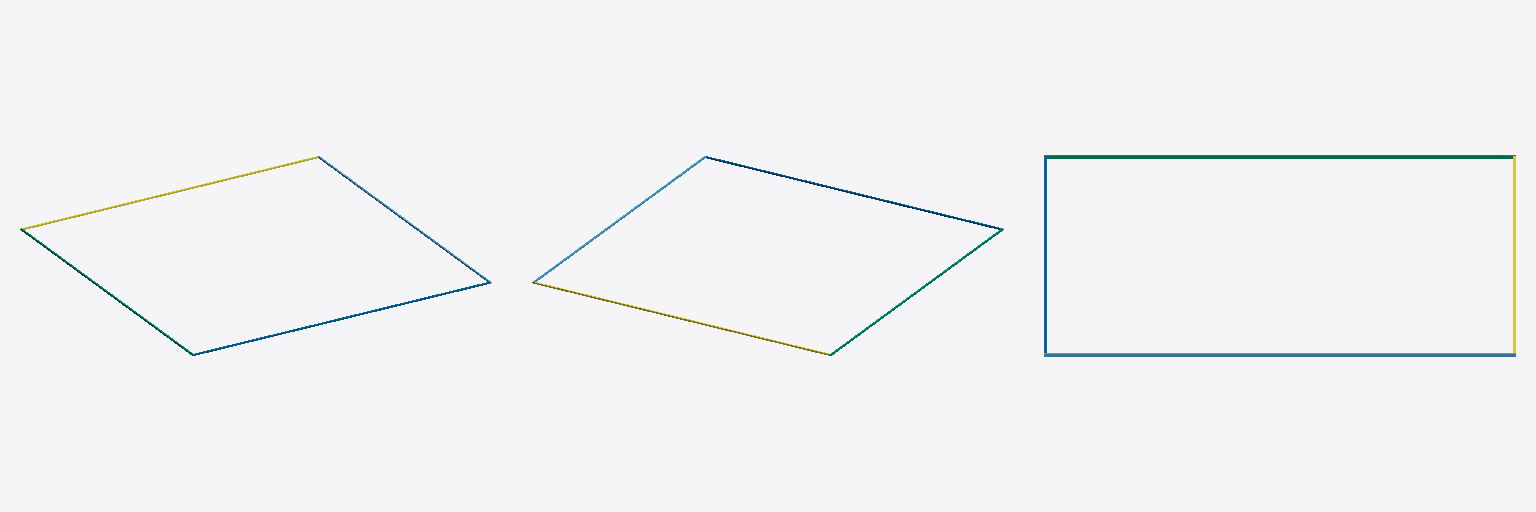
robot.urdf — enclosure_halfside_customization:
<?xml version="1.0"?>

<!-- a simple square enclosure for the robot swarm, with half side length 5.0 -->

<robot name="enclosure_halfside_customization">

<!-- used for fixing the four walls to gazebo -->
<link name="world"/>

<!-- the link objects for four walls -->

<!-- wall at upper x axis, walls at x axis will be longer than walls at y axis -->
<link name="x_upper">
  <inertial>
    <mass value="1"/>
    <origin xyz="0 0 0"/>
    <inertia ixx="1.0" ixy="0.0" ixz="0.0"
      iyy="1.0" iyz="0.0"
      izz="1.0"/>
  </inertial>

  <visual>
    <origin xyz="0 0 0"/>
    <geometry>
      <!-- <box size="0.05 halfside*2+0.1 0.05"/> -->
      <box size="0.05 10.1 0.05"/>
    </geometry>
  </visual>

  <collision>
    <origin xyz="0 0 0"/>
    <geometry>
      <!-- <box size="0.05 halfside*2+0.1 0.05"/> -->
      <box size="0.05 10.1 0.05"/>
    </geometry>
  </collision>
</link>

<gazebo reference="x_upper">
  <material>Gazebo/Grey</material>
</gazebo>

<!-- wall at lower x axis -->
<link name="x_lower">
  <inertial>
    <mass value="1"/>
    <origin xyz="0 0 0"/>
    <inertia ixx="1.0" ixy="0.0" ixz="0.0"
      iyy="1.0" iyz="0.0"
      izz="1.0"/>
  </inertial>

  <visual>
    <origin xyz="0 0 0"/>
    <geometry>
      <!-- <box size="0.05 halfside*2+0.1 0.05"/> -->
      <box size="0.05 10.1 0.05"/>
    </geometry>
  </visual>

  <collision>
    <origin xyz="0 0 0"/>
    <geometry>
      <!-- <box size="0.05 halfside*2+0.1 0.05"/> -->
      <box size="0.05 10.1 0.05"/>
    </geometry>
  </collision>
</link>

<gazebo reference="x_lower">
  <material>Gazebo/Grey</material>
</gazebo>

<!-- wall at upper y axis -->
<link name="y_upper">
  <inertial>
    <mass value="1"/>
    <origin xyz="0 0 0"/>
    <inertia ixx="1.0" ixy="0.0" ixz="0.0"
      iyy="1.0" iyz="0.0"
      izz="1.0"/>
  </inertial>

  <visual>
    <origin xyz="0 0 0"/>
    <geometry>
      <!-- <box size="halfside*2 0.05 0.05"/> -->
      <box size="10.0 0.05 0.05"/>
    </geometry>
  </visual>

  <collision>
    <origin xyz="0 0 0"/>
    <geometry>
      <!-- <box size="halfside*2 0.05 0.05"/> -->
      <box size="10.0 0.05 0.05"/>
    </geometry>
  </collision>
</link>

<gazebo reference="y_upper">
  <material>Gazebo/Grey</material>
</gazebo>

<!-- wall at lower y axis -->
<link name="y_lower">
  <inertial>
    <mass value="1"/>
    <origin xyz="0 0 0"/>
    <inertia ixx="1.0" ixy="0.0" ixz="0.0"
      iyy="1.0" iyz="0.0"
      izz="1.0"/>
  </inertial>

  <visual>
    <origin xyz="0 0 0"/>
    <geometry>
      <!-- <box size="halfside*2 0.05 0.05"/> -->
      <box size="10.0 0.05 0.05"/>
    </geometry>
  </visual>

  <collision>
    <origin xyz="0 0 0"/>
    <geometry>
      <!-- <box size="halfside*2 0.05 0.05"/> -->
      <box size="10.0 0.05 0.05"/>
    </geometry>
  </collision>
</link>

<gazebo reference="y_lower">
  <material>Gazebo/Grey</material>
</gazebo>


<!-- the joint objects to fix the walls on the ground -->

<!-- for the wall at upper x axis -->
<joint name="glue_wall_x_upper" type="fixed">
  <parent link="world"/>
  <child link="x_upper"/>
  <!-- <origin xyz="halfside+0.025 0 0.025" rpy="0 0 0"/> -->
  <origin xyz="5.025 0 0.025" rpy="0 0 0"/>
</joint>

<!-- for the wall at lower x axis -->
<joint name="glue_wall_x_lower" type="fixed">
  <parent link="world"/>
  <child link="x_lower"/>
  <!-- <origin xyz="-(halfside+0.025) 0 0.025" rpy="0 0 0"/> -->
  <origin xyz="-5.025 0 0.025" rpy="0 0 0"/>
</joint>

<!-- for the wall at upper y axis -->
<joint name="glue_wall_y_upper" type="fixed">
  <parent link="world"/>
  <child link="y_upper"/>
  <!-- <origin xyz="0 halfside+0.025 0.025" rpy="0 0 0"/> -->
  <origin xyz="0 5.025 0.025" rpy="0 0 0"/>
</joint>

<!-- for the wall at lower y axis -->
<joint name="glue_wall_y_lower" type="fixed">
  <parent link="world"/>
  <child link="y_lower"/>
  <!-- <origin xyz="0 -(halfside+0.025) 0.025" rpy="0 0 0"/> -->
  <origin xyz="0 -5.025 0.025" rpy="0 0 0"/>
</joint>


</robot>

--- Facts derived from the render (not from the file) ---
3 views of the same robot in one strip: view 1: azimuth 30°, elevation 25°; view 2: azimuth 150°, elevation 25°; view 3: azimuth 270°, elevation 25° (orthographic).
Model enclosure_halfside_customization with 5 links and 4 joints (4 fixed), rooted at world, posed all joints at 0.
Visible links, largest first — view 1: y_lower, y_upper; view 2: y_upper, y_lower; view 3: x_upper, x_lower, y_upper, y_lower.
Boxes of the visible links, <box> form: y_lower: <box>194,282,489,355</box>; y_upper: <box>22,156,317,229</box>; y_upper: <box>534,282,829,355</box>; y_lower: <box>706,156,1001,229</box>; x_upper: <box>1044,353,1515,356</box>; x_lower: <box>1044,155,1515,158</box>; y_upper: <box>1513,156,1515,352</box>; y_lower: <box>1044,156,1046,352</box>.
Size in the robot's own frame: 10.1 by 10.1 by 0.05 metres.
Geometry: primitives only (box / cylinder / sphere), no mesh files.
